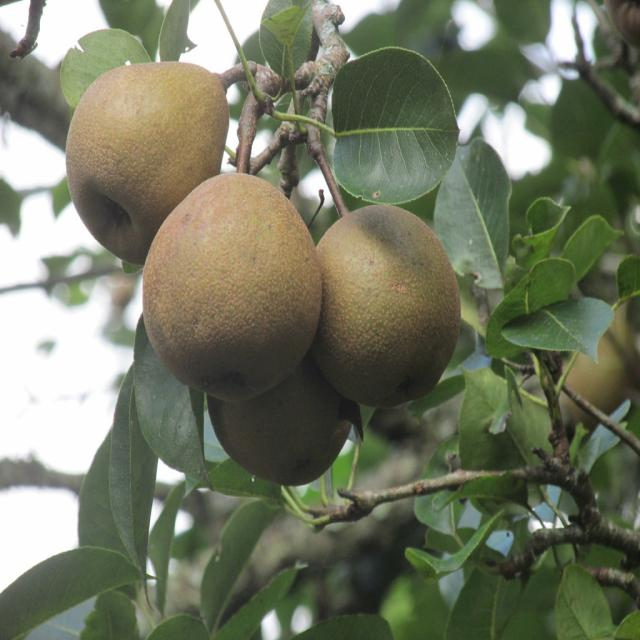pear: (142, 170, 324, 406), (64, 64, 235, 270), (312, 205, 461, 409), (208, 354, 349, 486), (551, 309, 640, 441)
